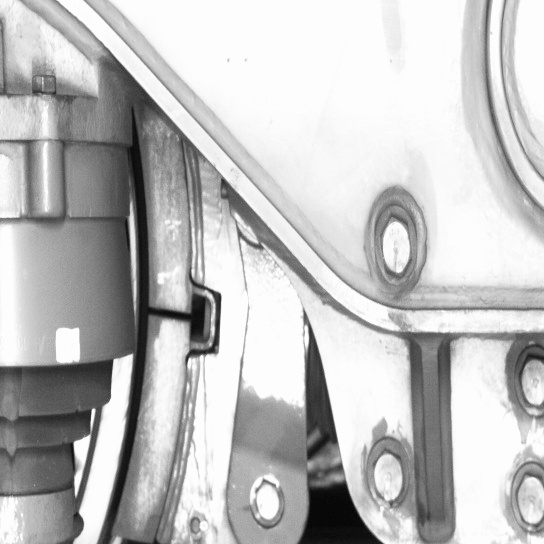KnifeSwitch: (92, 142, 197, 542)
